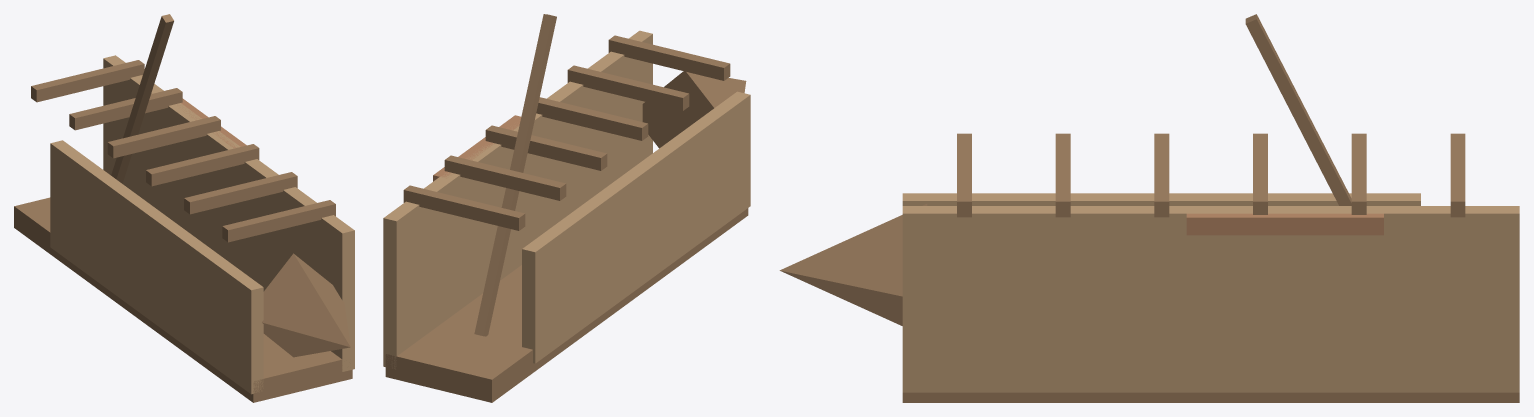
The model's file is WreckHull.fbx.
3 views of the same model, side by side, from view 1: azimuth 30°, elevation 25°; view 2: azimuth 150°, elevation 25°; view 3: azimuth 270°, elevation 25° (orthographic). The views are drawn at different scales.
Parts seen in each view (by area): view 1: Body; view 2: Body; view 3: Body.
Boxes of the visible parts, x1,y1,x2,y2 form: Body: [14, 14, 354, 402]; Body: [383, 14, 750, 402]; Body: [779, 14, 1519, 402].
Size of the model in its own units: 1.35 by 3.18 by 6.
